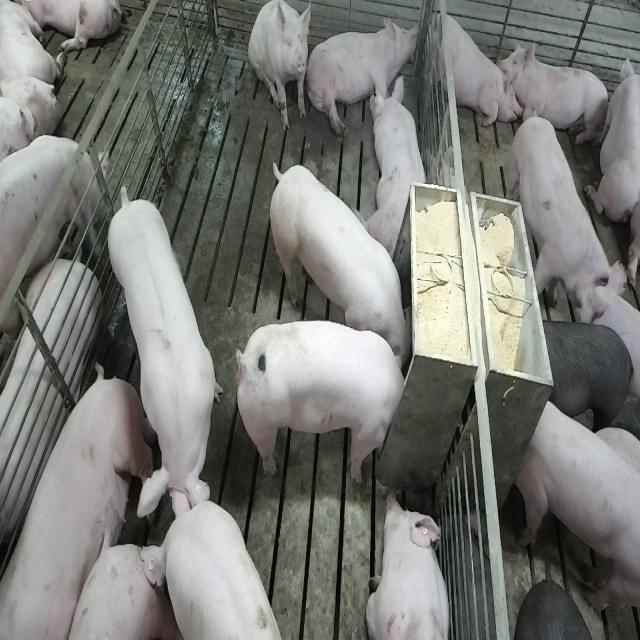Feeding: (264, 160, 412, 370), (232, 318, 408, 484)
Lateral_lying: (5, 366, 157, 640), (305, 12, 419, 138)
Sitting: (425, 4, 514, 137), (248, 1, 312, 134)
Standing: (104, 188, 220, 536), (514, 394, 638, 619), (0, 128, 107, 355), (510, 106, 616, 320), (138, 497, 286, 640), (541, 317, 637, 432)
Sternal_lying: (366, 490, 453, 640), (505, 39, 612, 151), (367, 72, 431, 258), (585, 48, 637, 227)
